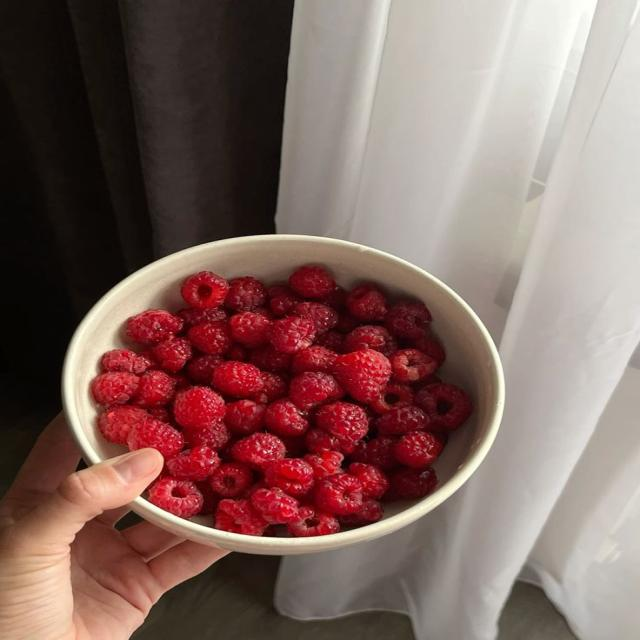raspberry: (334, 350, 391, 402), (416, 383, 472, 429), (127, 417, 183, 459), (148, 478, 203, 518), (174, 387, 225, 429), (316, 402, 368, 443), (290, 372, 344, 411), (314, 473, 362, 515), (127, 310, 183, 345), (232, 433, 286, 469), (98, 406, 148, 444), (267, 316, 316, 354), (214, 500, 267, 535), (181, 271, 229, 309), (265, 458, 313, 496), (167, 446, 219, 481), (394, 432, 444, 468), (213, 361, 263, 397), (251, 488, 298, 524), (385, 303, 431, 339), (344, 325, 397, 356), (265, 398, 308, 436), (134, 370, 176, 408), (289, 265, 337, 298), (91, 372, 139, 405), (187, 320, 233, 354), (351, 436, 397, 470), (389, 349, 436, 382), (291, 302, 338, 335), (209, 462, 253, 497), (229, 312, 271, 348), (287, 507, 339, 536), (376, 406, 428, 435), (390, 467, 437, 499), (348, 463, 389, 499), (347, 284, 386, 321), (183, 421, 231, 451), (225, 276, 266, 311), (151, 338, 192, 373), (225, 400, 265, 435), (371, 383, 414, 413), (101, 350, 152, 375), (292, 346, 337, 373), (249, 345, 292, 373), (412, 333, 445, 367), (340, 499, 383, 525), (187, 355, 224, 384), (304, 451, 343, 478), (254, 372, 287, 403), (177, 308, 227, 328), (268, 286, 300, 317), (305, 428, 342, 453), (196, 481, 220, 515), (315, 331, 345, 353), (321, 288, 346, 311), (336, 312, 362, 334), (280, 436, 306, 457), (242, 481, 266, 499), (170, 373, 192, 392), (147, 407, 172, 423), (226, 343, 247, 362), (251, 306, 273, 320)
